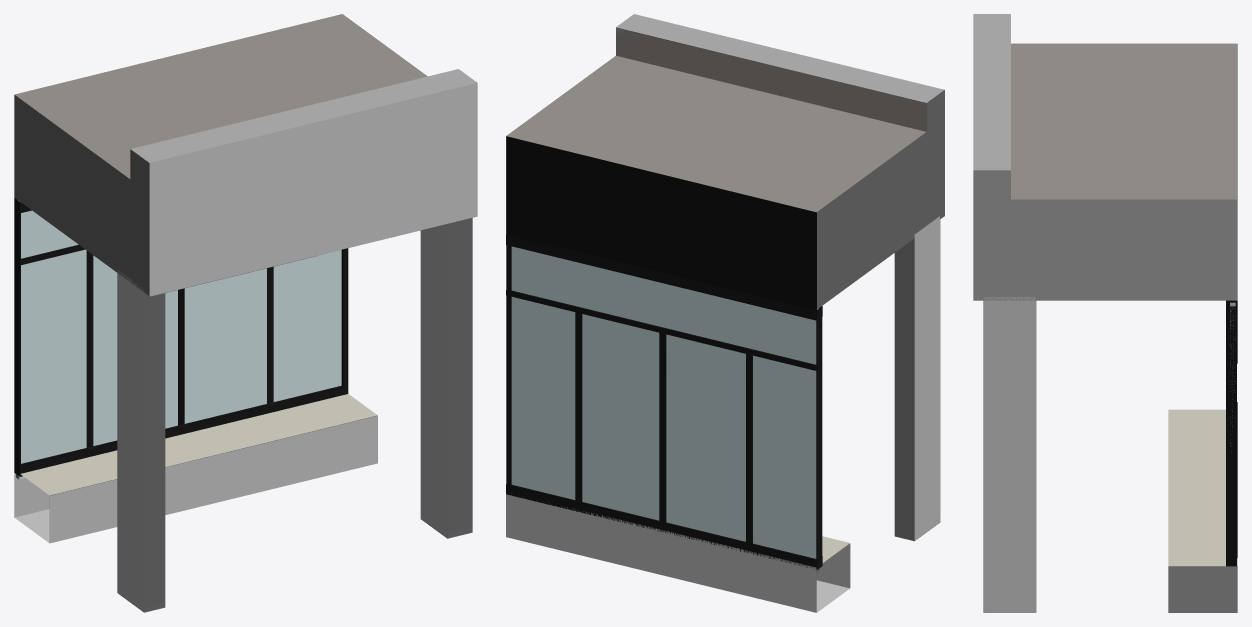
Rendered from Shop_wall_front_type1.FBX.
3 renders of one model, left to right at view 1: azimuth 30°, elevation 25°; view 2: azimuth 150°, elevation 25°; view 3: azimuth 270°, elevation 25°, orthographic. The views are drawn at different scales.
Visible parts, largest first — view 1: Shop_wall_front_type1_003; view 2: Shop_wall_front_type1_003; view 3: Shop_wall_front_type1_003.
Part boxes in pixels (bbox=[...]): Shop_wall_front_type1_003: bbox=[14, 14, 477, 612]; Shop_wall_front_type1_003: bbox=[506, 14, 944, 612]; Shop_wall_front_type1_003: bbox=[973, 14, 1237, 612].
Bounding box in the file's own units: 1202 × 1587 × 858.
1 material, 1 textured.
